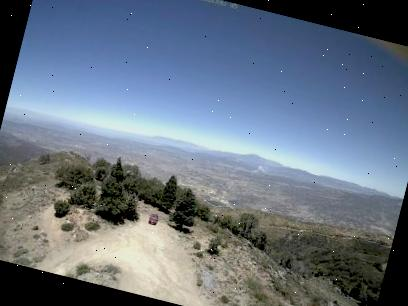smoke: (243, 156, 277, 180)
